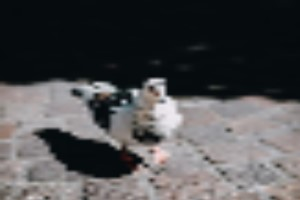pigeon: (71, 75, 186, 167)
